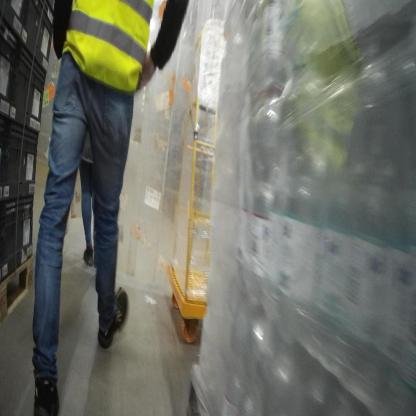pallet: (2, 256, 37, 325), (181, 364, 216, 412)
